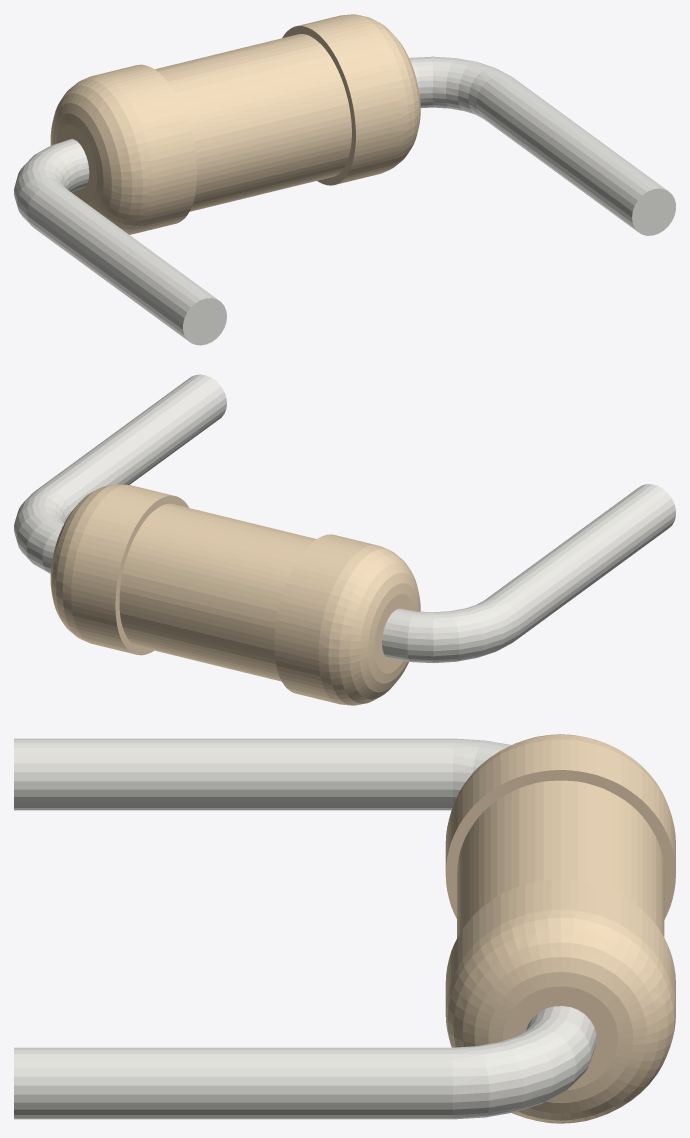
The model's file is R_Axial_DIN0204_L3.6mm_D1.6mm_P5.08mm_Horizontal.glb.
3 views of the same model, one above another, from view 1: azimuth 30°, elevation 25°; view 2: azimuth 150°, elevation 25°; view 3: azimuth 270°, elevation 25° (orthographic). The views are drawn at different scales.
Visible parts, largest first — view 1: Shape_IndexedFaceSet.004, Shape_IndexedFaceSet.013, Shape_IndexedFaceSet.007, Shape_IndexedFaceSet.010, Shape_IndexedFaceSet.008, Shape_IndexedFaceSet, Shape_IndexedFaceSet.005, Shape_IndexedFaceSet.012, Shape_IndexedFaceSet.001, Shape_IndexedFaceSet.009, Shape_IndexedFaceSet.014, Shape_IndexedFaceSet.002 (+1 smaller); view 2: Shape_IndexedFaceSet.004, Shape_IndexedFaceSet.010, Shape_IndexedFaceSet.013, Shape_IndexedFaceSet.007, Shape_IndexedFaceSet.008, Shape_IndexedFaceSet, Shape_IndexedFaceSet.012, Shape_IndexedFaceSet.005, Shape_IndexedFaceSet.001, Shape_IndexedFaceSet.002, Shape_IndexedFaceSet.011; view 3: Shape_IndexedFaceSet.007, Shape_IndexedFaceSet.013, Shape_IndexedFaceSet.001, Shape_IndexedFaceSet.004, Shape_IndexedFaceSet.005, Shape_IndexedFaceSet.008, Shape_IndexedFaceSet, Shape_IndexedFaceSet.006, Shape_IndexedFaceSet.003, Shape_IndexedFaceSet.012, Shape_IndexedFaceSet.010.
Part boxes in pixels (x1,y1,x2,y2): Shape_IndexedFaceSet.004: (155, 34, 351, 211); Shape_IndexedFaceSet.013: (27, 184, 218, 341); Shape_IndexedFaceSet.007: (476, 74, 667, 230); Shape_IndexedFaceSet.010: (50, 75, 152, 234); Shape_IndexedFaceSet.008: (94, 64, 196, 233); Shape_IndexedFaceSet: (298, 15, 400, 184); Shape_IndexedFaceSet.005: (409, 56, 510, 118); Shape_IndexedFaceSet.012: (14, 139, 89, 224); Shape_IndexedFaceSet.001: (343, 14, 420, 172); Shape_IndexedFaceSet.009: (632, 188, 675, 235); Shape_IndexedFaceSet.014: (183, 298, 226, 345); Shape_IndexedFaceSet.002: (282, 26, 355, 185); Shape_IndexedFaceSet.004: (119, 503, 316, 681); Shape_IndexedFaceSet.010: (318, 545, 420, 705); Shape_IndexedFaceSet.013: (485, 484, 675, 641); Shape_IndexedFaceSet.007: (36, 374, 226, 511); Shape_IndexedFaceSet.008: (274, 534, 376, 703); Shape_IndexedFaceSet: (71, 485, 172, 654); Shape_IndexedFaceSet.012: (382, 598, 520, 663); Shape_IndexedFaceSet.005: (14, 488, 70, 573); Shape_IndexedFaceSet.001: (50, 484, 126, 642); Shape_IndexedFaceSet.002: (115, 495, 188, 655); Shape_IndexedFaceSet.011: (374, 593, 414, 673); Shape_IndexedFaceSet.007: (14, 1047, 452, 1119); Shape_IndexedFaceSet.013: (14, 738, 452, 810); Shape_IndexedFaceSet.001: (445, 909, 675, 1123); Shape_IndexedFaceSet.004: (457, 780, 664, 937); Shape_IndexedFaceSet.005: (453, 1006, 596, 1119); Shape_IndexedFaceSet.008: (445, 739, 675, 870); Shape_IndexedFaceSet: (445, 879, 675, 1010); Shape_IndexedFaceSet.006: (445, 770, 675, 919); Shape_IndexedFaceSet.003: (503, 986, 618, 1090); Shape_IndexedFaceSet.012: (453, 738, 511, 805); Shape_IndexedFaceSet.010: (452, 734, 668, 808).
Size of the model in its own units: 2.2 by 0.63 by 1.81.
